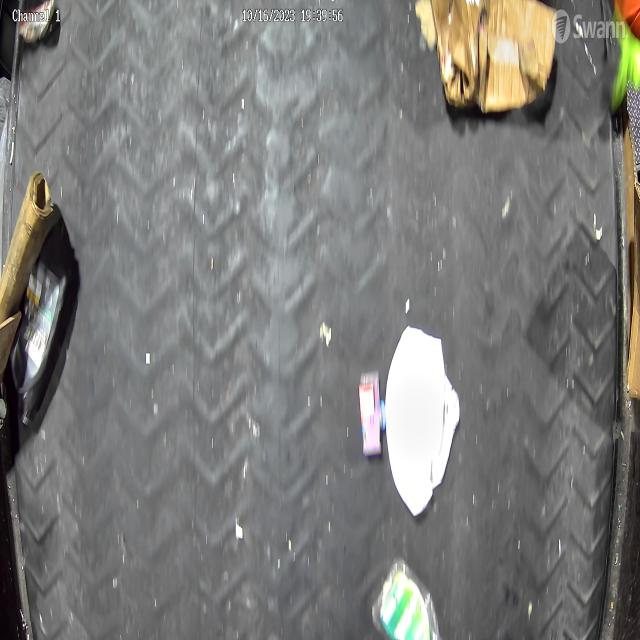milk_jug: (384, 323, 462, 520)
non_white_jug: (10, 249, 71, 428)
